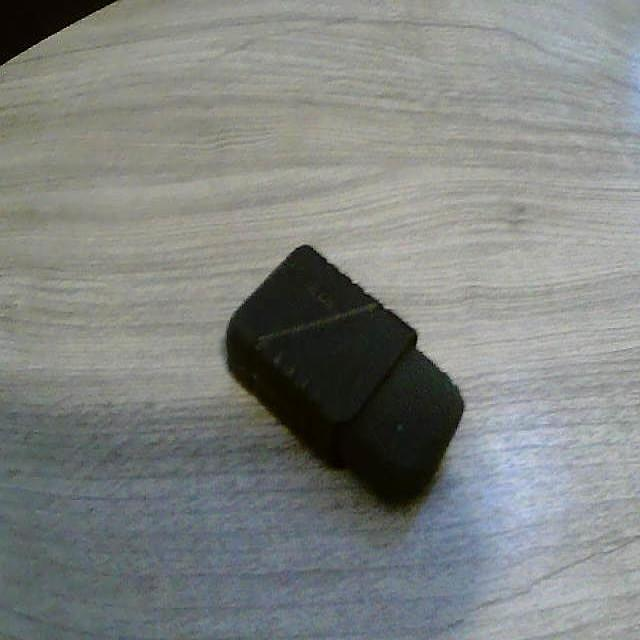borracha: (197, 215, 499, 547)
